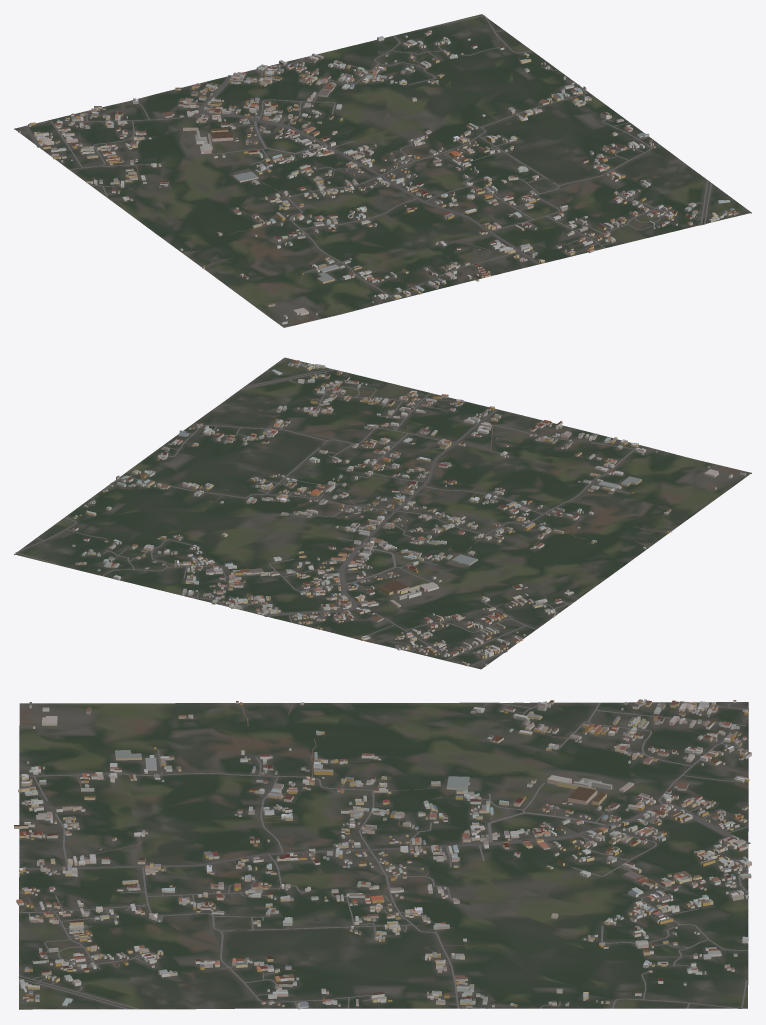
3 views of the same model, one above another, from view 1: azimuth 30°, elevation 25°; view 2: azimuth 150°, elevation 25°; view 3: azimuth 270°, elevation 25° (orthographic). The views are drawn at different scales.
Visible parts, largest first — view 1: ground, buildings, roads; view 2: ground, buildings, roads; view 3: ground, buildings, roads.
Part boxes in pixels (left/top/right/bottom): ground: left=14, top=14, right=751, bottom=327; buildings: left=18, top=30, right=738, bottom=324; roads: left=23, top=15, right=712, bottom=321; ground: left=14, top=357, right=751, bottom=669; buildings: left=72, top=360, right=745, bottom=666; roads: left=15, top=368, right=724, bottom=666; ground: left=19, top=702, right=748, bottom=1009; buildings: left=14, top=699, right=751, bottom=1009; roads: left=19, top=701, right=750, bottom=1009.
Bounding box in the file's own units: 1405 × 22.41 × 1417.
